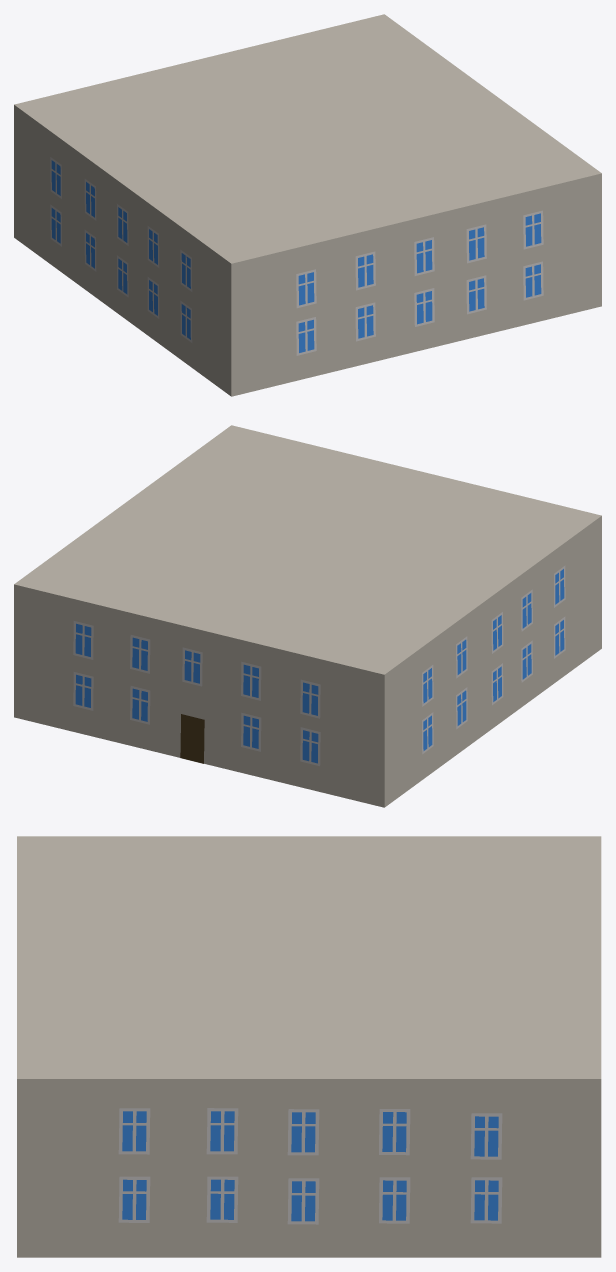
The picture shows the model from 3 angles, top to bottom: view 1: azimuth 30°, elevation 25°; view 2: azimuth 150°, elevation 25°; view 3: azimuth 270°, elevation 25°; orthographic projection. The views are drawn at different scales.
Visible parts, largest first — view 1: Плоскость.670; view 2: Плоскость.670; view 3: Плоскость.670.
Boxes of the visible parts, x1,y1,x2,y2 form: Плоскость.670: (14, 14, 601, 396); Плоскость.670: (14, 425, 601, 807); Плоскость.670: (17, 836, 601, 1257).
Bounding box in the file's own units: 187 × 63.58 × 190.
